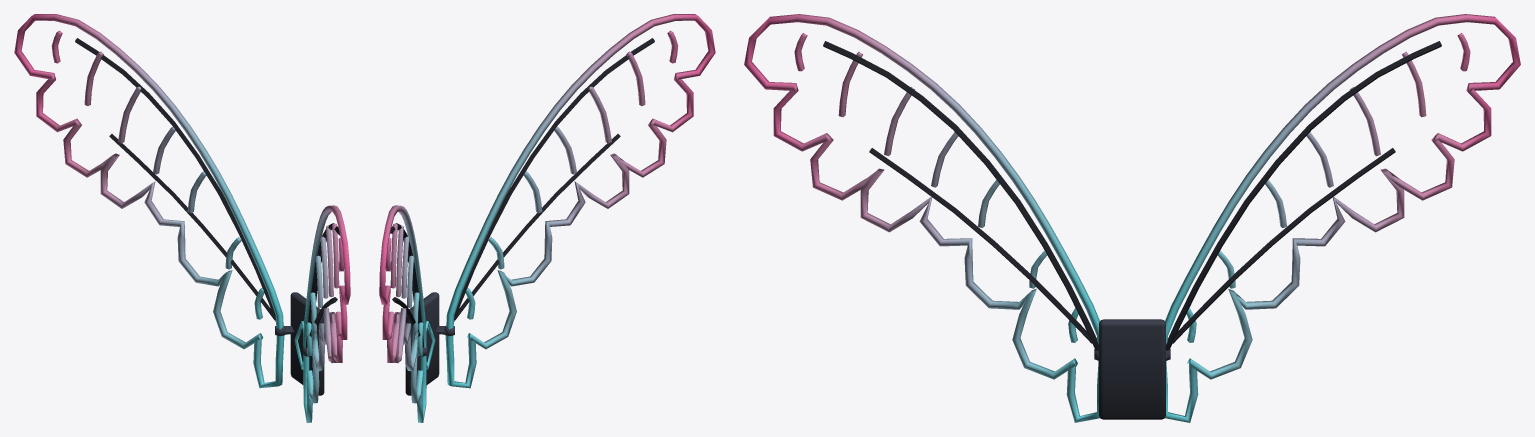
Rendered from acc_wings_neon.glb.
3 renders of one model, left to right at view 1: azimuth 30°, elevation 25°; view 2: azimuth 150°, elevation 25°; view 3: azimuth 270°, elevation 25°, orthographic. The views are drawn at different scales.
Visible parts, largest first — view 1: Glow, acc_wings_neon; view 2: Glow, acc_wings_neon; view 3: Glow, acc_wings_neon.
Part boxes in pixels (<box>): Glow: <box>14,14,350,422</box>; acc_wings_neon: <box>75,38,340,395</box>; Glow: <box>379,14,715,422</box>; acc_wings_neon: <box>390,38,654,395</box>; Glow: <box>744,14,1520,422</box>; acc_wings_neon: <box>823,41,1441,419</box>.
Size of the model in its own units: 0.4215 by 0.9414 by 1.85.
